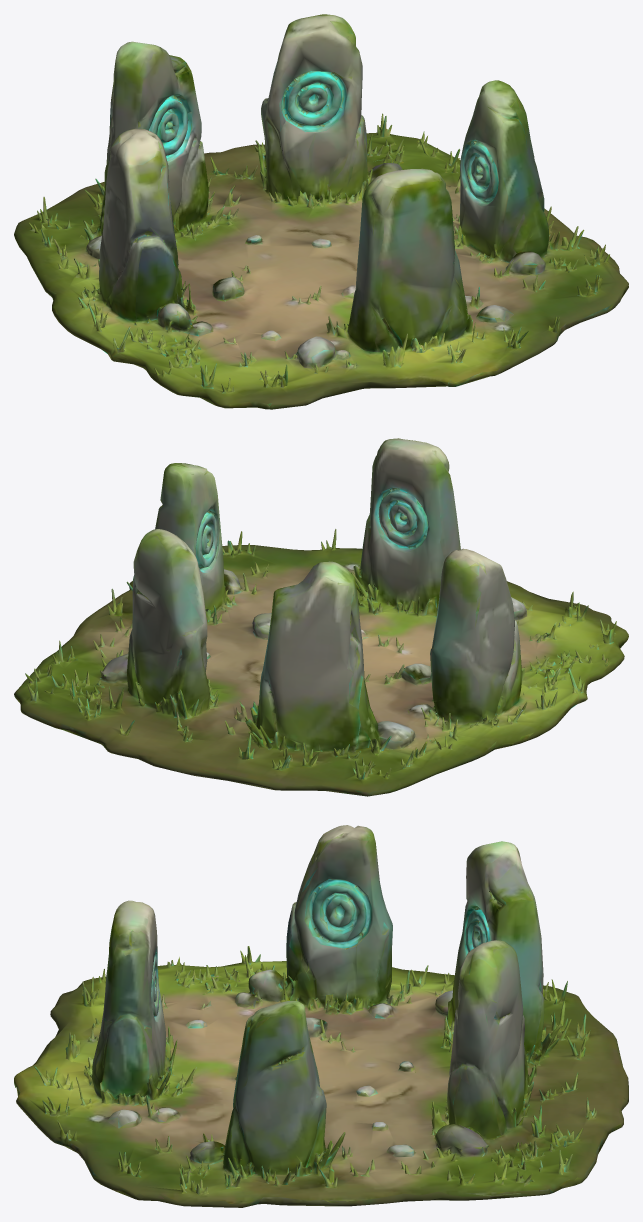
The picture shows the model from 3 angles, top to bottom: view 1: azimuth 30°, elevation 25°; view 2: azimuth 150°, elevation 25°; view 3: azimuth 270°, elevation 25°; orthographic projection. The views are drawn at different scales.
Visible parts, largest first — view 1: Mesh_0; view 2: Mesh_0; view 3: Mesh_0.
Boxes of the visible parts, x1=… form: Mesh_0: x1=14, y1=14, x2=628, y2=409; Mesh_0: x1=14, y1=438, x2=628, y2=796; Mesh_0: x1=14, y1=825, x2=628, y2=1207.
Bounding box in the file's own units: 1.78 × 0.6941 × 1.9.
Materials: 1 (1 with a texture image).
